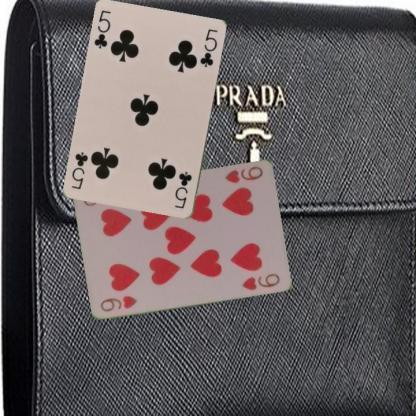5c: (172, 169, 194, 210), (92, 8, 113, 50)
9h: (222, 164, 263, 185), (98, 294, 138, 313)
